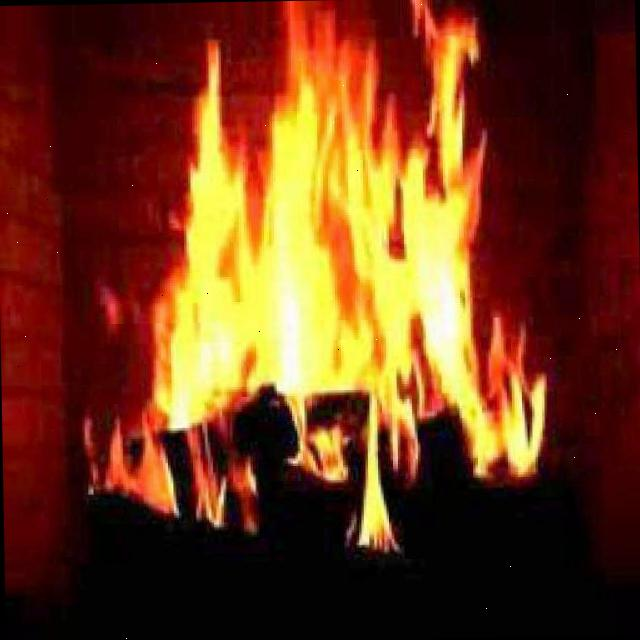fire: (121, 22, 505, 450)
